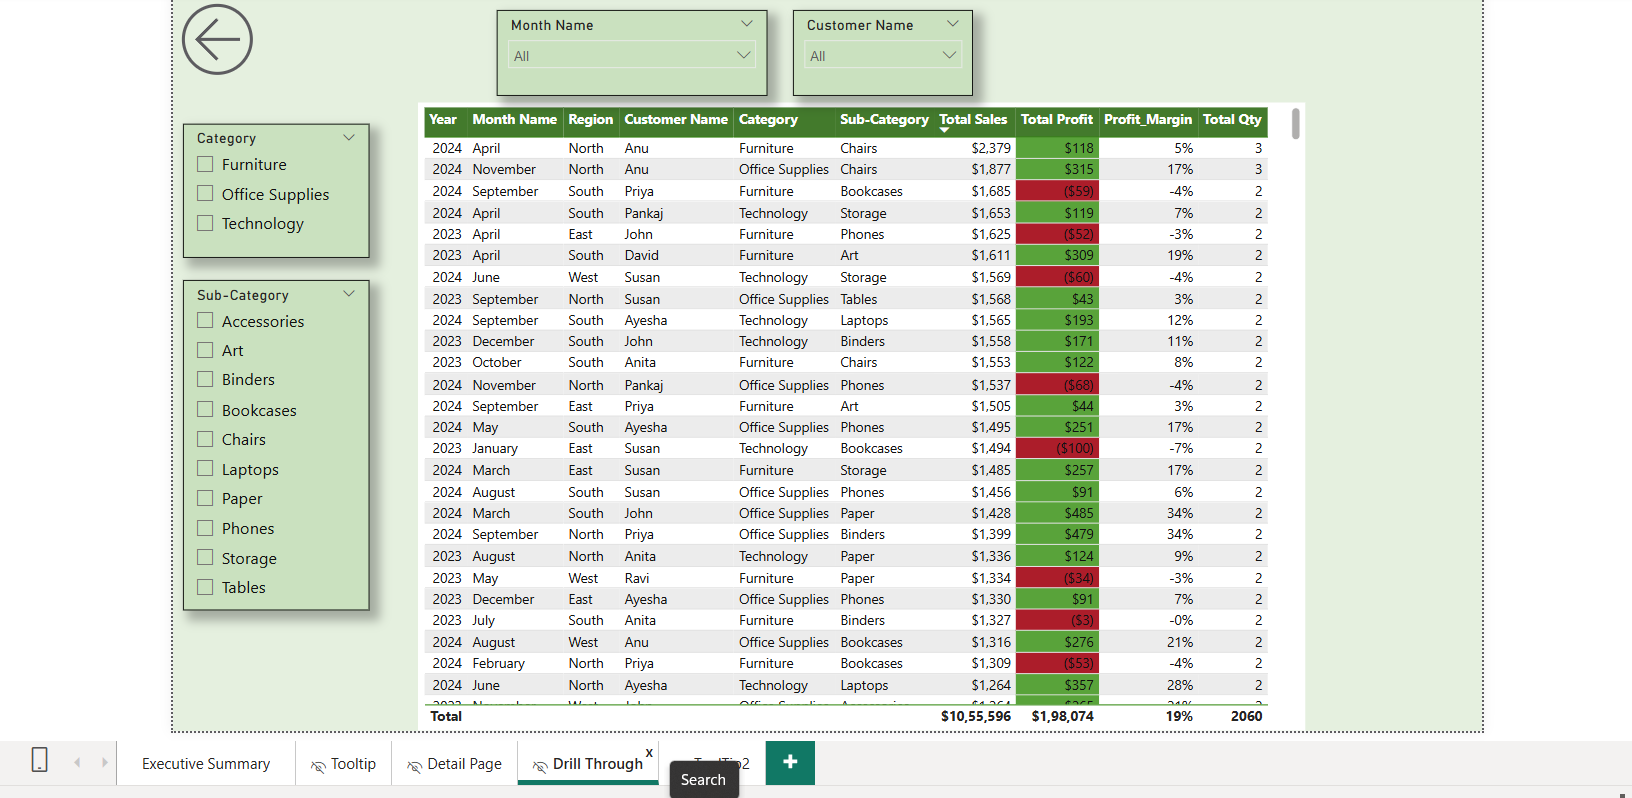

The page's visual inventory and layout, read from the dashboard file:
{"tool":"powerbi","page":{"name":"Drill Through","canvas":[1280,720],"ordinal":3},"visuals":[{"type":"tableEx","fields":{"Values":["Date_Table.Year","Date_Table.Month Name","Sales.Region","Sales.Customer Name","Category.Category","Category.Sub-Category","Sales.Total Sales","Sales.TotalProfit","Sales.Profit_Margin","Sales.TotalQty"]},"box":[239.8,104.7,868.2,614.6],"z":0},{"type":"actionButton","box":[0,0,138.2,86.8],"z":1000},{"type":"slicer","fields":{"Values":["Date_Table.Month Name"]},"box":[317,15.2,264.6,84.1],"z":2000},{"type":"slicer","fields":{"Values":["Sales.Customer Name"]},"box":[606.7,14.7,176.1,84.4],"z":3000},{"type":"slicer","fields":{"Values":["Category.Category"]},"box":[9.8,126,182.2,130.8],"z":4000},{"type":"slicer","fields":{"Values":["Category.Sub-Category"]},"box":[9.8,278.8,182.2,322.8],"z":5000}]}

Visuals, with their boxes on the page's 1280x720 design canvas (x1, y1, x2, y2). These are canvas units, not pixel positions in the 1632x798 screenshot, which may show the page scaled, cropped or inside an application window:
tableEx - Date_Table.Year x Date_Table.Month Name: {"left": 240, "top": 105, "right": 1108, "bottom": 719}
actionButton: {"left": 0, "top": 0, "right": 138, "bottom": 87}
slicer - Date_Table.Month Name: {"left": 317, "top": 15, "right": 582, "bottom": 99}
slicer - Sales.Customer Name: {"left": 607, "top": 15, "right": 783, "bottom": 99}
slicer - Category.Category: {"left": 10, "top": 126, "right": 192, "bottom": 257}
slicer - Category.Sub-Category: {"left": 10, "top": 279, "right": 192, "bottom": 602}
